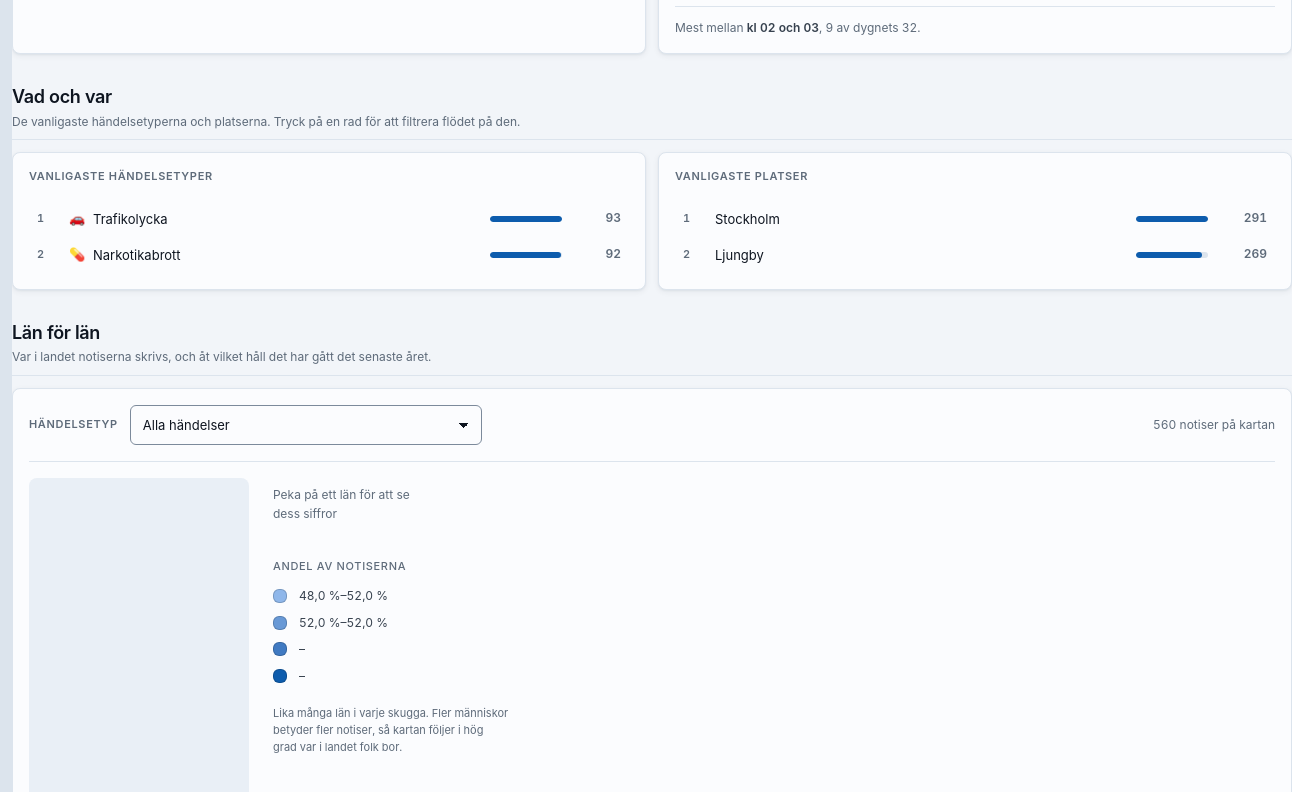
Scenario: StatsView › län för län › restates the shares against the selected type
The width and height of the screenshot is (1292, 792).
(page scrolled)
Select "Narkotikabrott" in the dropdown labelled "Händelsetyp" at [306, 425], box 130,405 -> 482,445
(page scrolled)
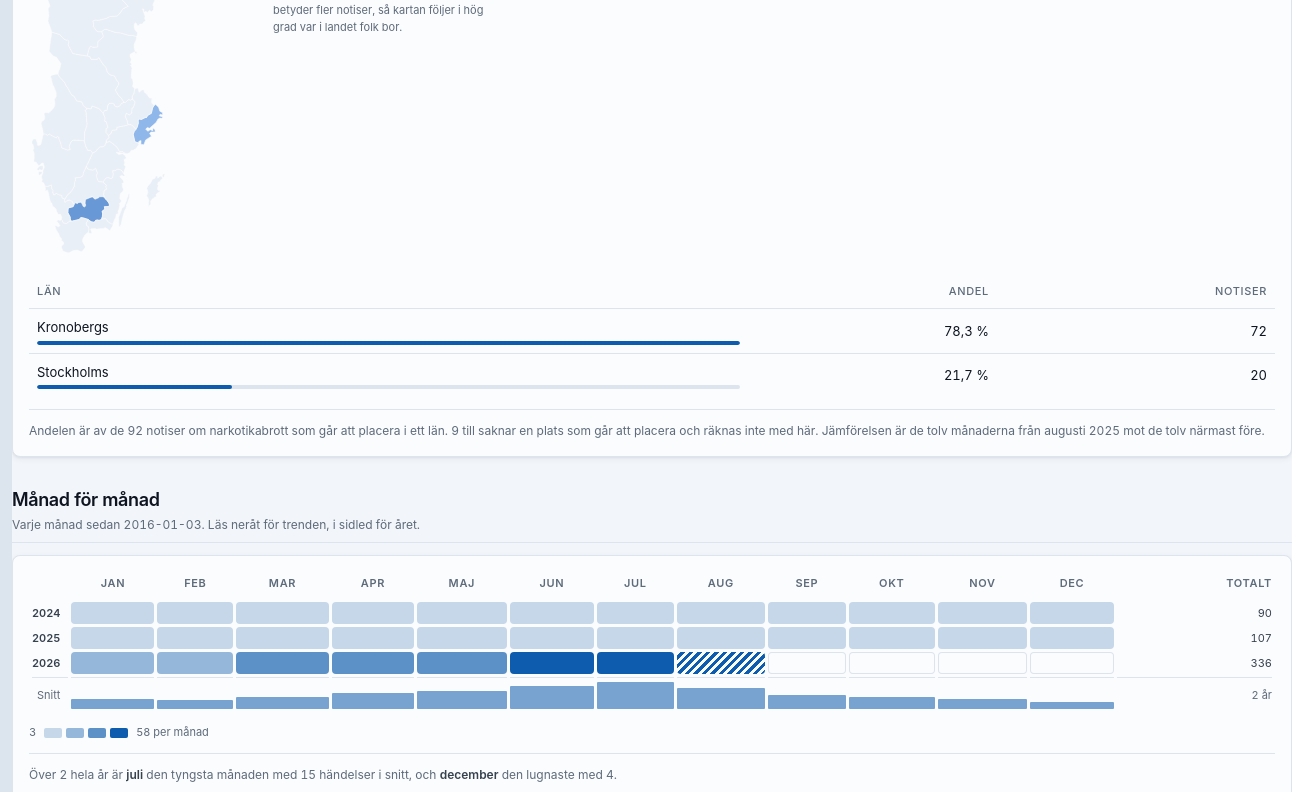
Now the text "9 till saknar en plats" is shown, box 29,409 -> 1275,440
Now the text "560 notiser" is gone
